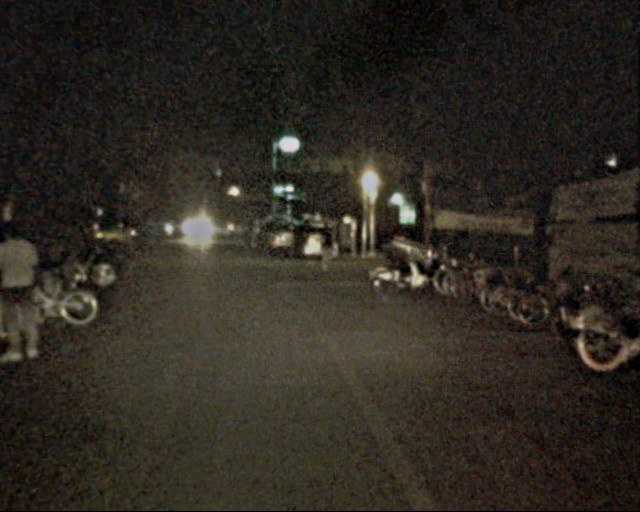person: (313, 225, 337, 276), (237, 223, 251, 258)
